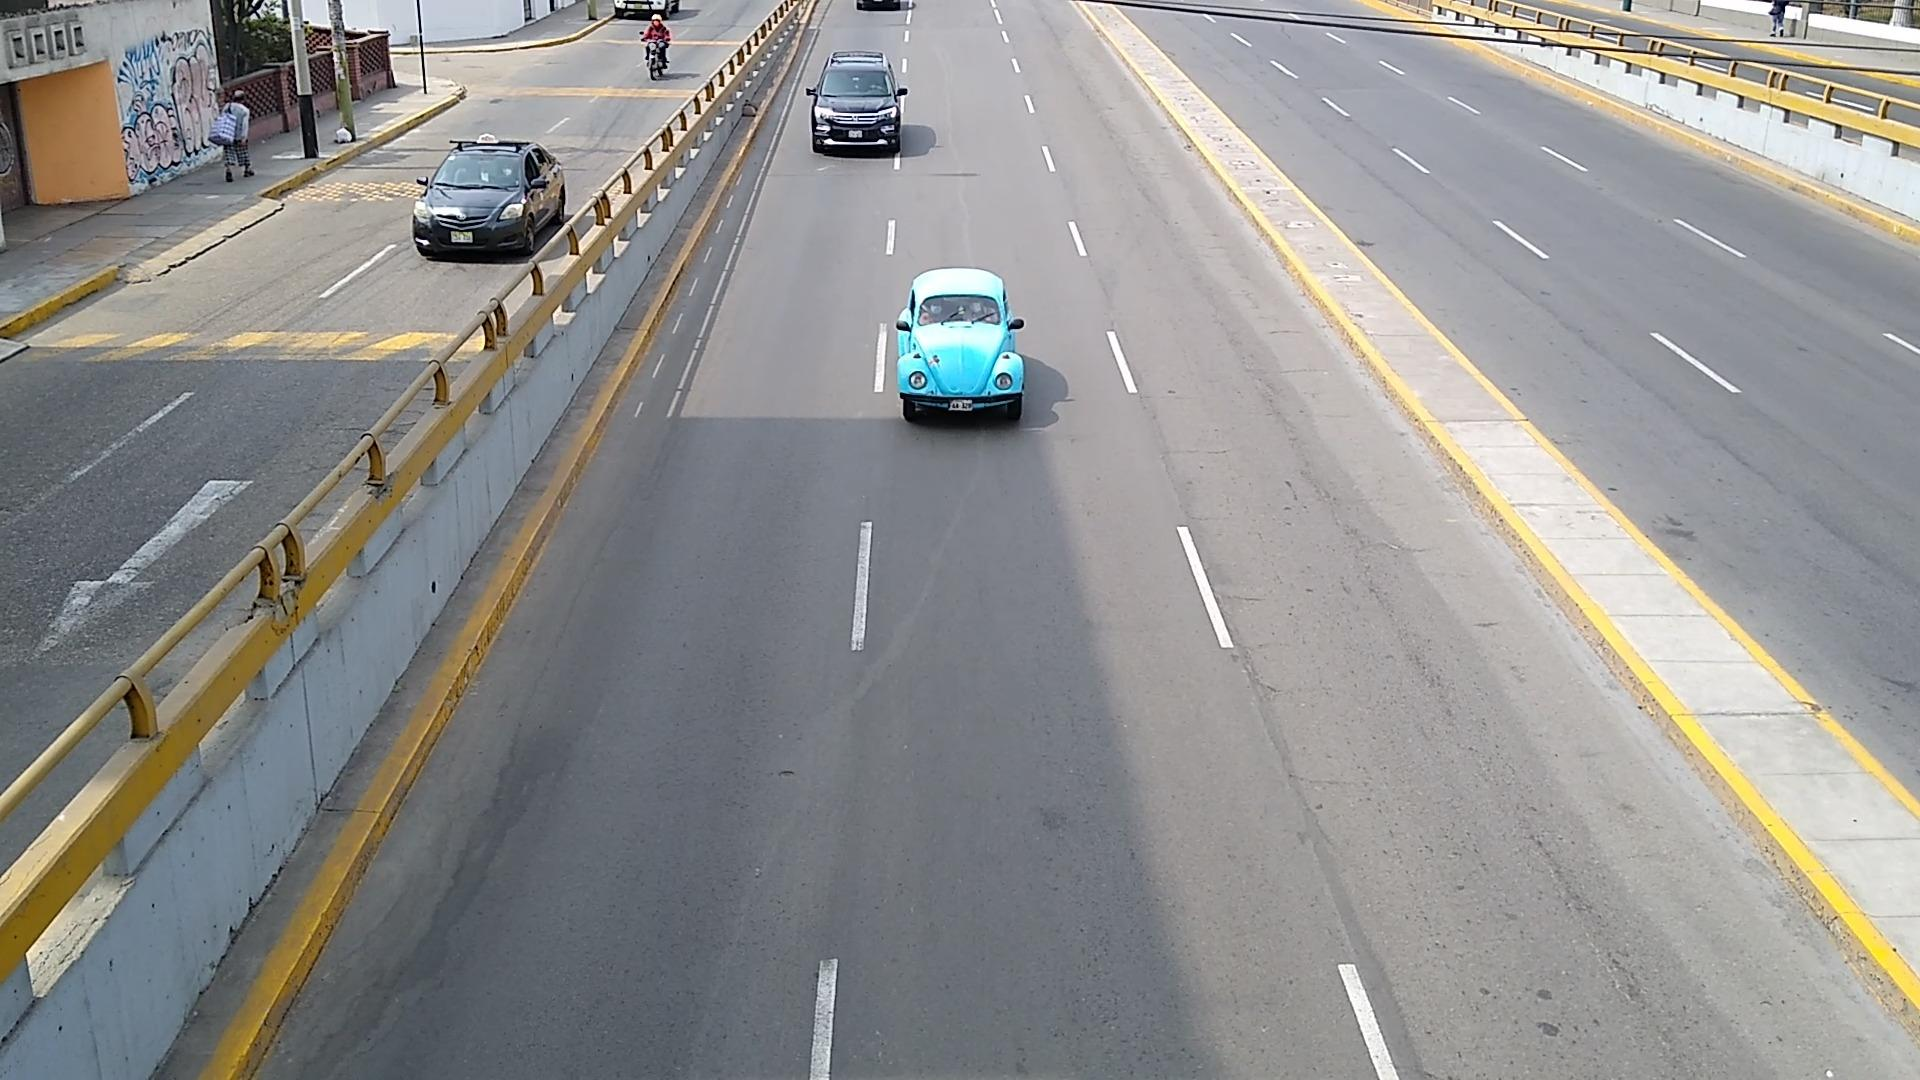car: (409, 135, 566, 258), (897, 266, 1023, 419), (806, 49, 907, 150)
motorcyclist: (210, 94, 255, 178), (641, 12, 671, 79)
